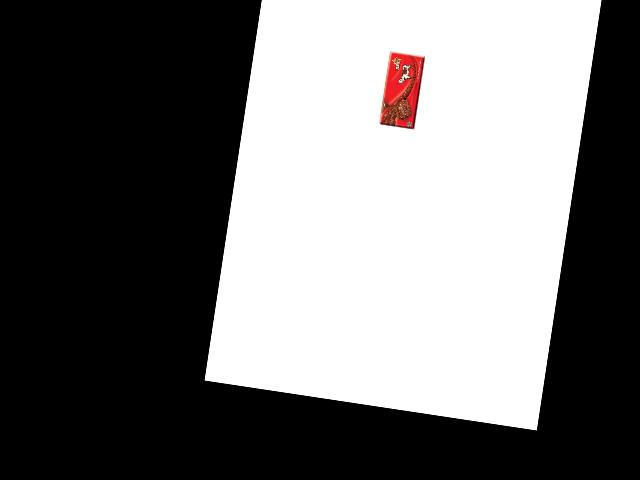chocolate: (377, 48, 429, 131)
